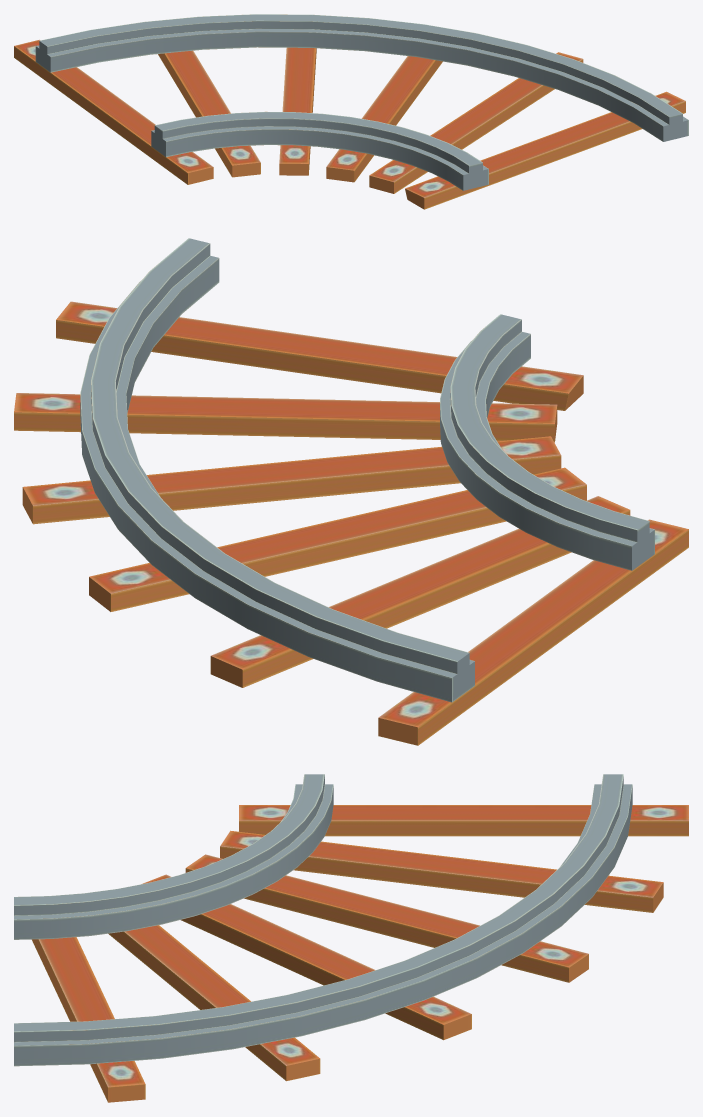
File: rail_curve.glb
3 views of the same model, one above another, from view 1: azimuth 30°, elevation 25°; view 2: azimuth 150°, elevation 25°; view 3: azimuth 270°, elevation 25° (orthographic). The views are drawn at different scales.
Visible parts, largest first — view 1: Rail_C.001; view 2: Rail_C.001; view 3: Rail_C.001.
Part boxes in pixels (x1,y1,x2,y2): Rail_C.001: [14, 14, 688, 209]; Rail_C.001: [14, 238, 688, 745]; Rail_C.001: [14, 774, 688, 1102].
Size of the model in its own units: 1.49 by 0.1125 by 1.5.
Materials: 1 (1 with a texture image).
